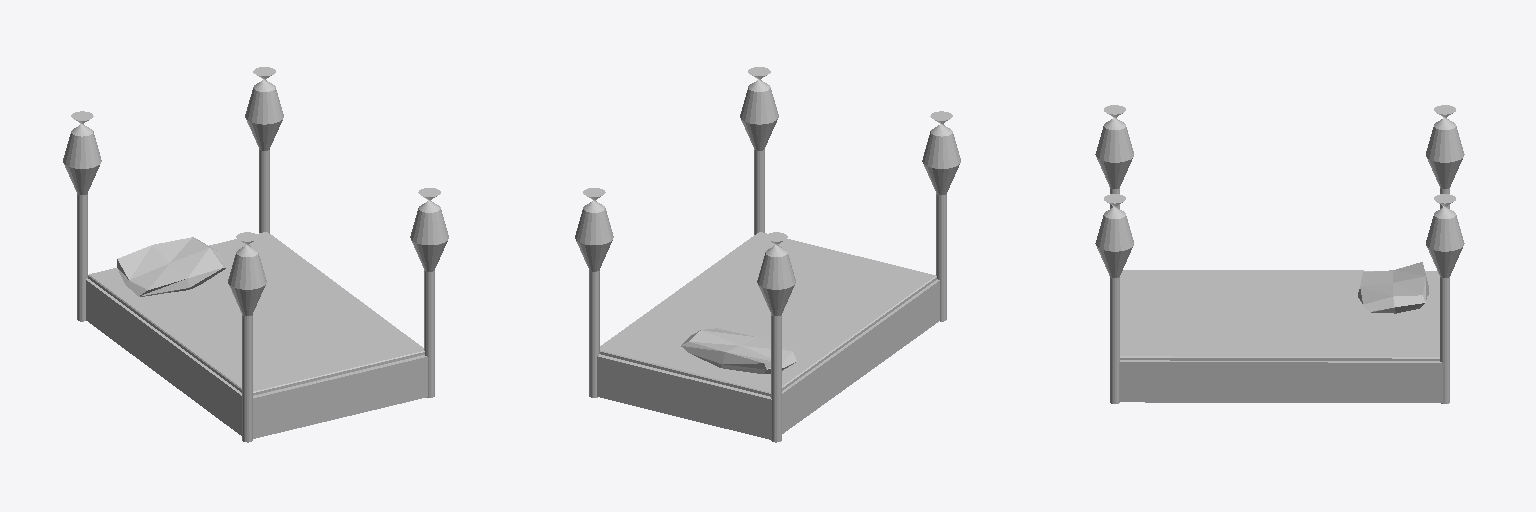
Rendered from bedBettina.obj.
The picture shows the model from 3 angles: view 1: azimuth 30°, elevation 25°; view 2: azimuth 150°, elevation 25°; view 3: azimuth 270°, elevation 25°; orthographic projection.
Parts seen in each view (by area): view 1: pCube2 bed indoor, bed indoor pillow, bed indoor pCylinder15, bed indoor pCylinder18, bed indoor pCylinder16, bed indoor pCylinder17; view 2: pCube2 bed indoor, bed indoor pCylinder18, bed indoor pCylinder17, bed indoor pCylinder15, bed indoor pillow, bed indoor pCylinder16; view 3: pCube2 bed indoor, bed indoor pCylinder16, bed indoor pCylinder17, bed indoor pillow, bed indoor pCylinder18, bed indoor pCylinder15.
Boxes of the visible parts, <box> form: pCube2 bed indoor: <box>86,232,427,438</box>; bed indoor pillow: <box>117,237,226,296</box>; bed indoor pCylinder15: <box>228,232,266,442</box>; bed indoor pCylinder18: <box>63,111,101,321</box>; bed indoor pCylinder16: <box>410,188,448,397</box>; bed indoor pCylinder17: <box>245,67,283,233</box>; pCube2 bed indoor: <box>597,232,939,439</box>; bed indoor pCylinder18: <box>757,232,795,442</box>; bed indoor pCylinder17: <box>575,188,613,397</box>; bed indoor pCylinder15: <box>922,111,960,321</box>; bed indoor pillow: <box>681,328,796,373</box>; bed indoor pCylinder16: <box>740,67,778,234</box>; pCube2 bed indoor: <box>1119,270,1442,402</box>; bed indoor pCylinder16: <box>1095,194,1133,403</box>; bed indoor pCylinder17: <box>1426,194,1464,403</box>; bed indoor pillow: <box>1358,262,1428,313</box>; bed indoor pCylinder18: <box>1426,105,1464,208</box>; bed indoor pCylinder15: <box>1095,105,1133,208</box>.
Size of the model in its own units: 3.58 by 3.22 by 5.3.